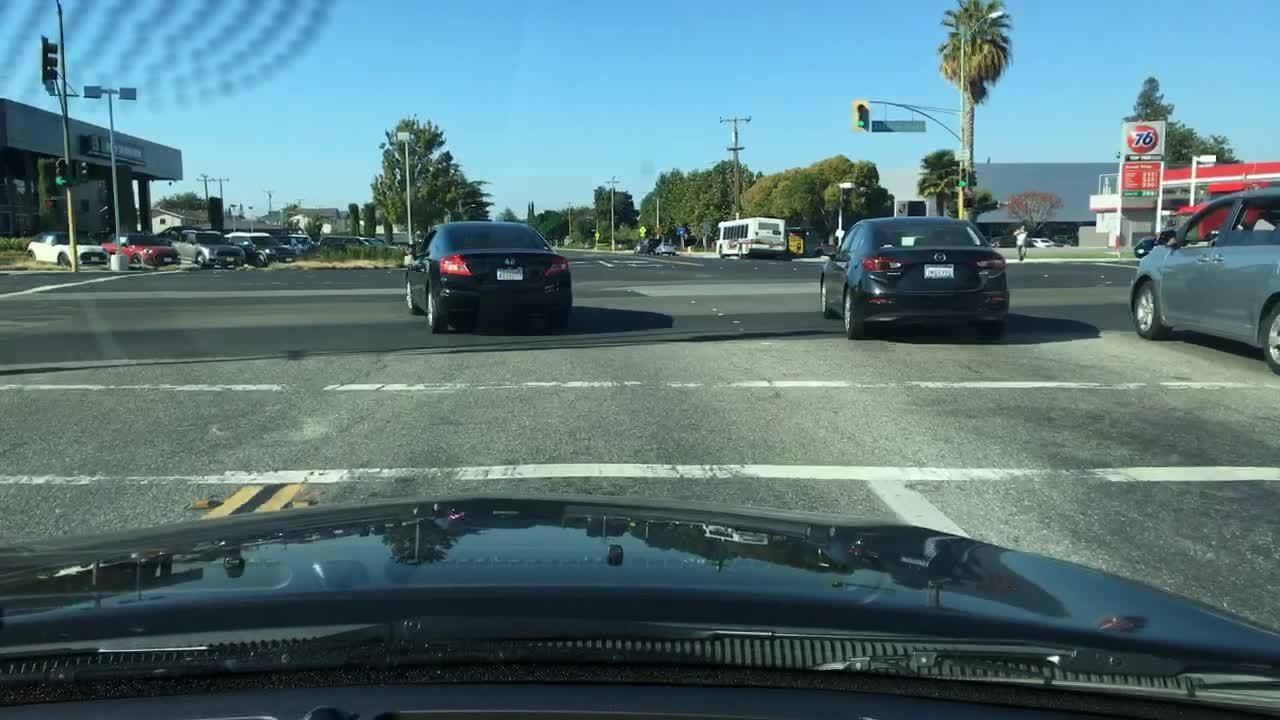Honda: (499, 253, 518, 271)
Mazda: (932, 247, 953, 263)
